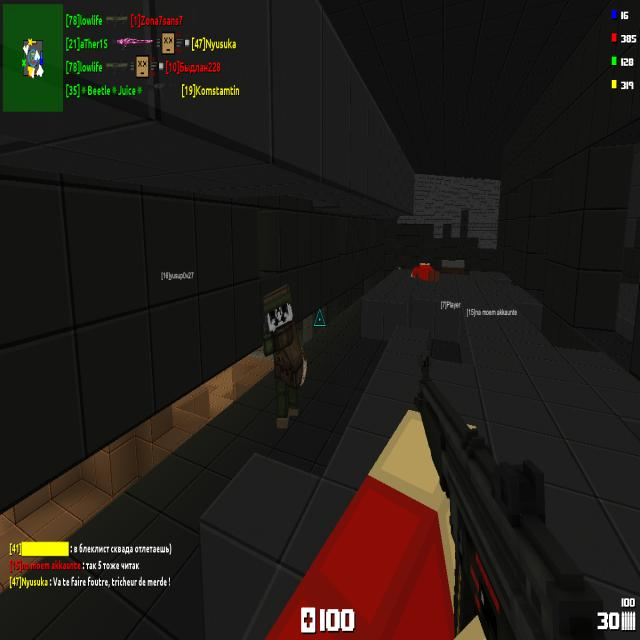enemy: (262, 285, 299, 429)
